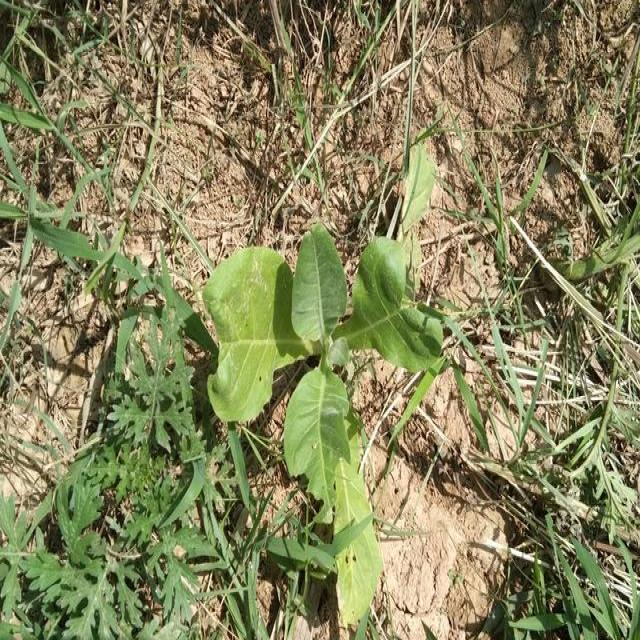crop: (214, 240, 440, 634)
